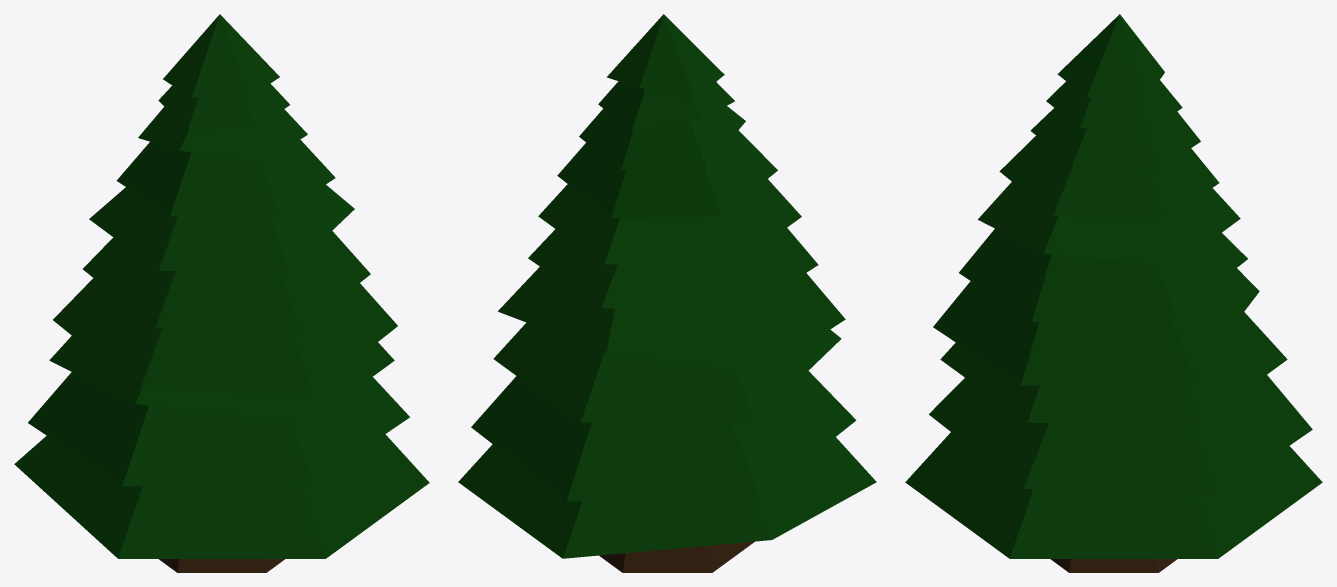
The model's file is Cam_Agac_.fbx.
3 renders of one model, left to right at view 1: azimuth 30°, elevation 25°; view 2: azimuth 150°, elevation 25°; view 3: azimuth 270°, elevation 25°, orthographic.
Parts seen in each view (by area): view 1: Cylinder; view 2: Cylinder; view 3: Cylinder.
Part boxes in pixels (x1,y1,x2,y2): Cylinder: (14, 14, 429, 572); Cylinder: (458, 14, 876, 572); Cylinder: (905, 14, 1322, 572).
Bounding box in the file's own units: 1118 × 1797 × 1291.
